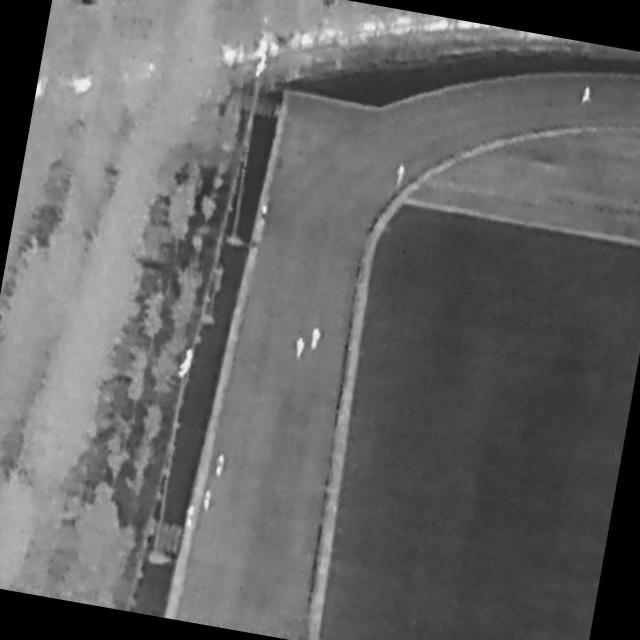person: (394, 164, 408, 190), (214, 454, 227, 479), (310, 328, 323, 352), (294, 336, 307, 360), (202, 489, 214, 514), (185, 505, 196, 528), (582, 86, 594, 106), (259, 204, 269, 225)
